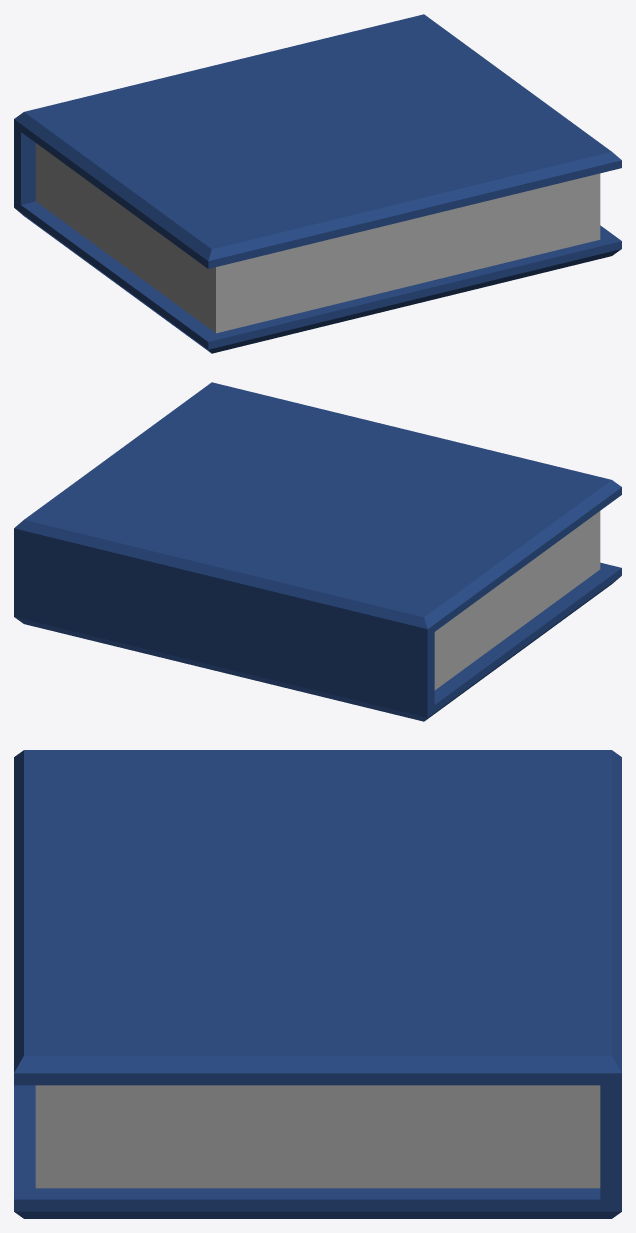
The model's file is Character_Rooms_Books_Blue.fbx.
3 renders of one model, top to bottom at view 1: azimuth 30°, elevation 25°; view 2: azimuth 150°, elevation 25°; view 3: azimuth 270°, elevation 25°, orthographic. The views are drawn at different scales.
Parts seen in each view (by area): view 1: book.002; view 2: book.002; view 3: book.002.
Boxes of the visible parts, x1,y1,x2,y2 form: book.002: (14,14,621,353); book.002: (14,382,621,721); book.002: (14,750,621,1218).
Size of the model in its own units: 75.77 by 18.26 by 61.61.
